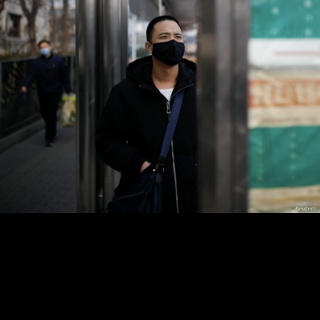with_mask: (152, 29, 185, 66), (40, 44, 51, 56)
